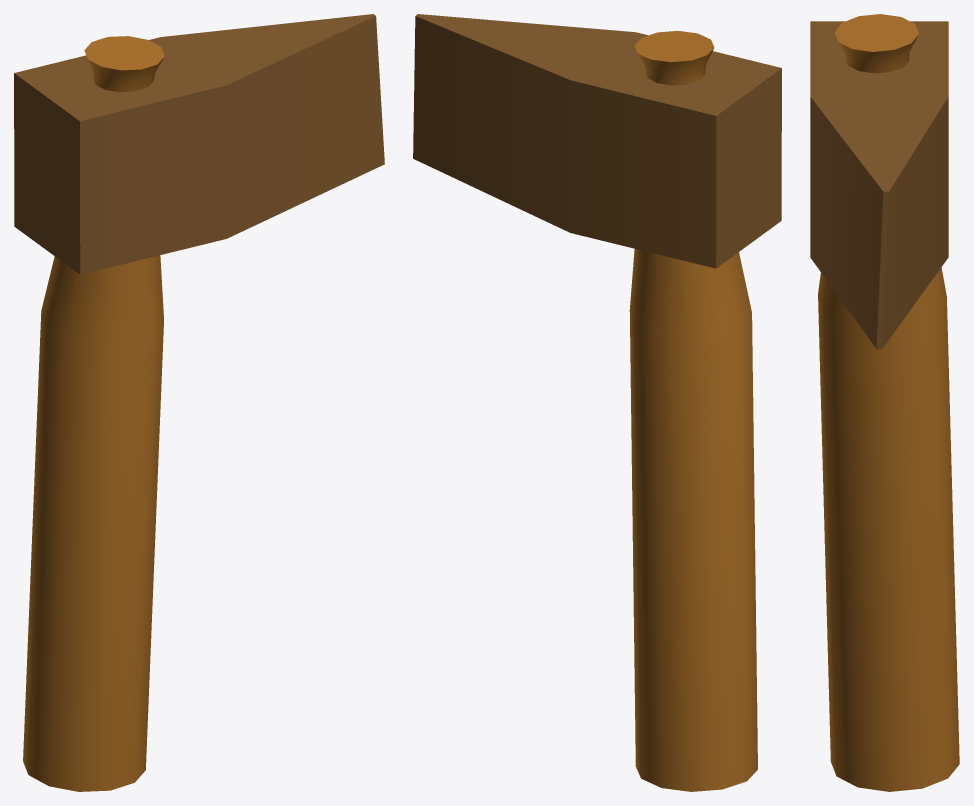
File: Wooden axe.fbx
3 views of the same model, side by side, from view 1: azimuth 30°, elevation 25°; view 2: azimuth 150°, elevation 25°; view 3: azimuth 270°, elevation 25° (orthographic). The views are drawn at different scales.
Parts seen in each view (by area): view 1: axe; view 2: axe; view 3: axe.
Part boxes in pixels (x1,y1,x2,y2): axe: (14,14,384,791); axe: (413,14,781,791); axe: (810,14,959,791).
Size of the model in its own units: 0.2305 by 0.4565 by 0.0825.
